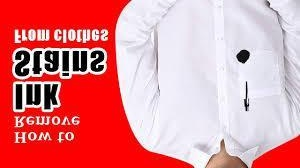ink: (236, 50, 250, 63)
